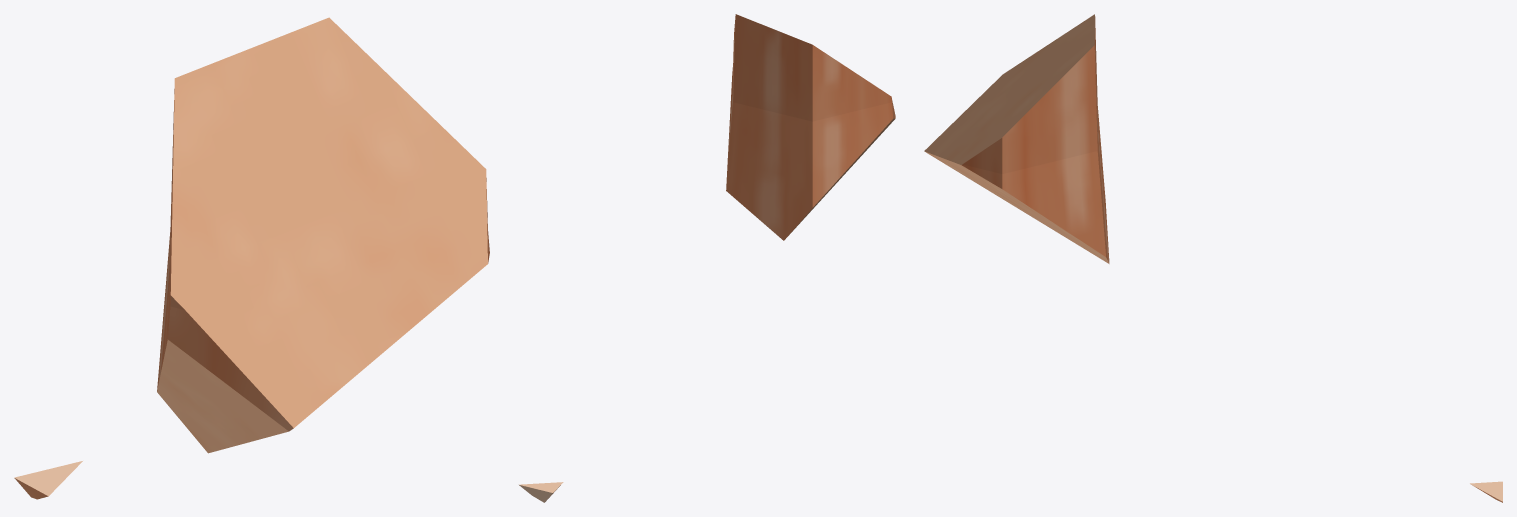
File: tree_s03.fbx
3 views of the same model, side by side, from view 1: azimuth 30°, elevation 25°; view 2: azimuth 150°, elevation 25°; view 3: azimuth 270°, elevation 25° (orthographic). The views are drawn at different scales.
Parts seen in each view (by area): view 1: tree_s03; view 2: tree_s03; view 3: tree_s03.
Part boxes in pixels (<box>): tree_s03: <box>14,17,489,499</box>; tree_s03: <box>519,14,895,502</box>; tree_s03: <box>924,14,1502,502</box>.
Size of the model in its own units: 0.8382 by 1.78 by 2.1.
